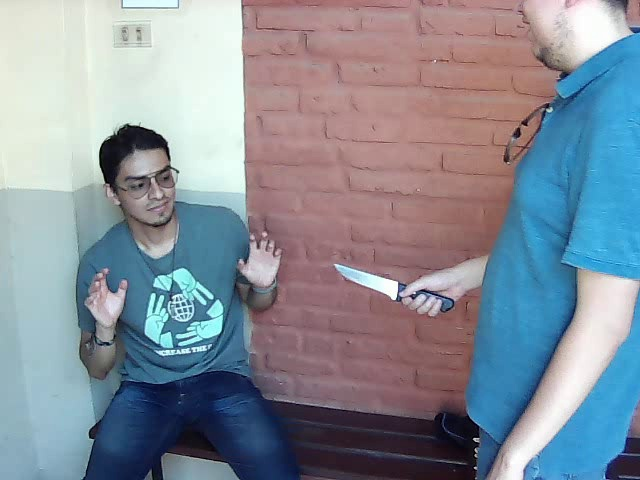cuchillo: (328, 258, 436, 314)
